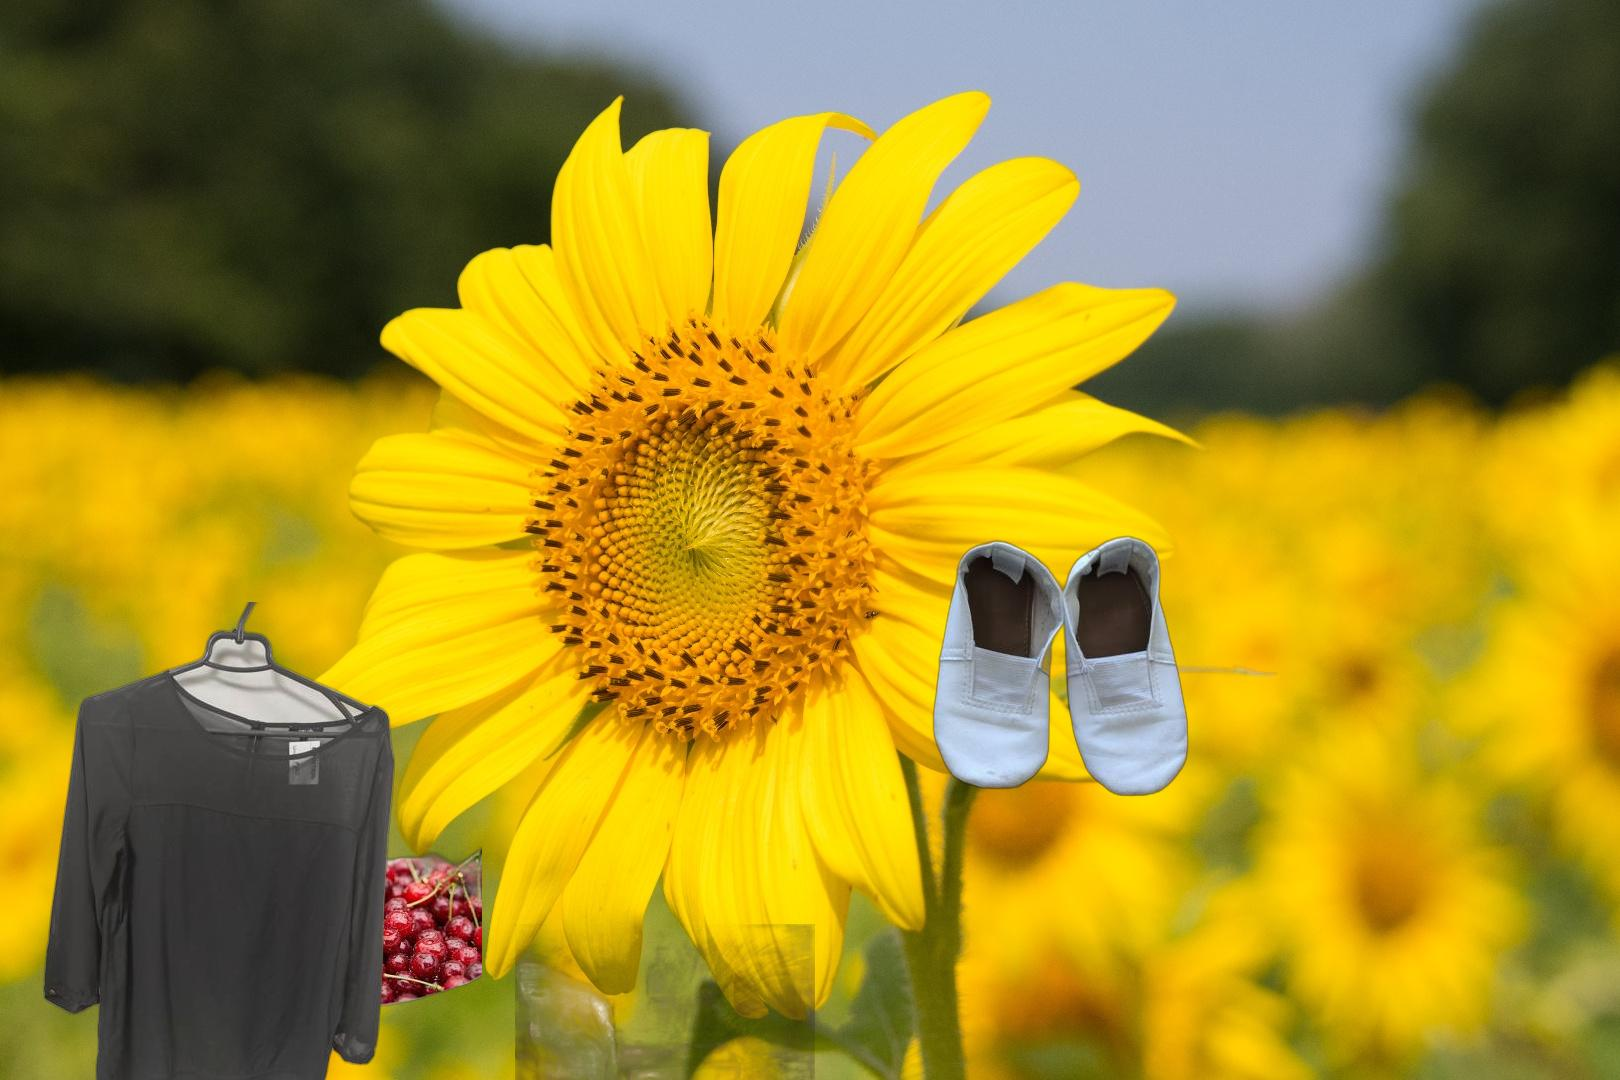biological: (207, 826, 482, 1009)
clothes: (42, 601, 397, 1080)
paper-bag: (515, 925, 815, 1080)
shoes: (931, 532, 1192, 802)
